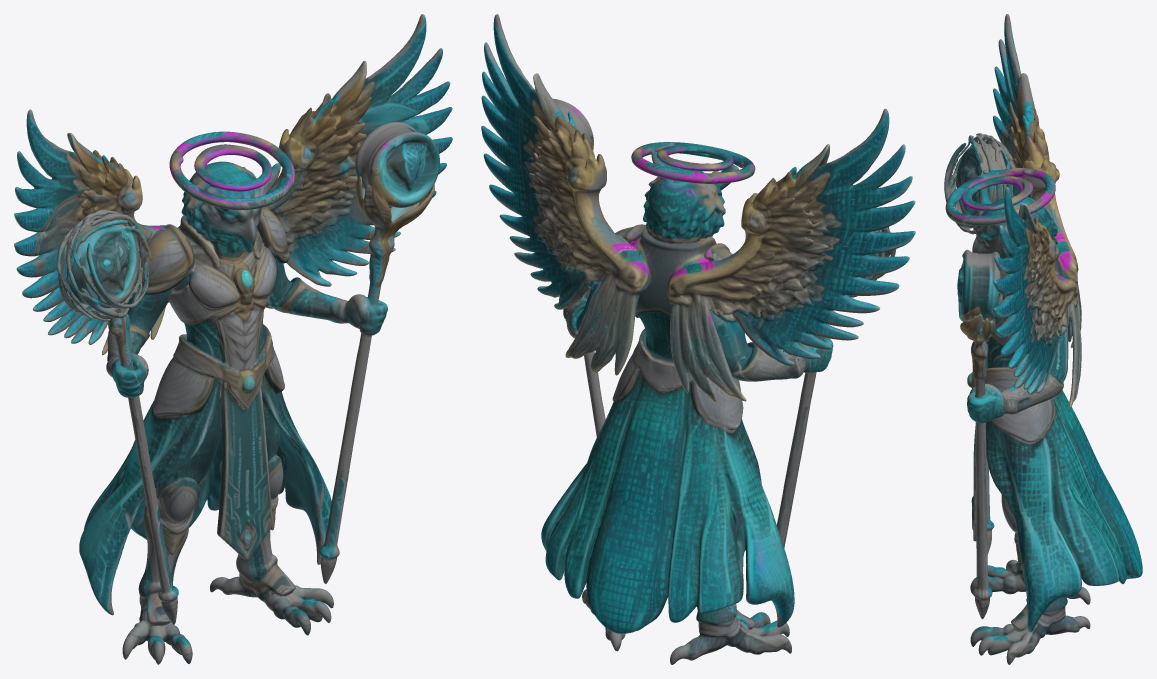
File: Aeon.glb
3 renders of one model, left to right at view 1: azimuth 30°, elevation 25°; view 2: azimuth 150°, elevation 25°; view 3: azimuth 270°, elevation 25°, orthographic. The views are drawn at different scales.
Parts seen in each view (by area): view 1: tripo_node_f4a3d1ec-e453-4632-8101-81e6cc00a29e; view 2: tripo_node_f4a3d1ec-e453-4632-8101-81e6cc00a29e; view 3: tripo_node_f4a3d1ec-e453-4632-8101-81e6cc00a29e.
Part boxes in pixels (box(x1,y1,x2,y2)): tripo_node_f4a3d1ec-e453-4632-8101-81e6cc00a29e: box(14, 14, 452, 664); tripo_node_f4a3d1ec-e453-4632-8101-81e6cc00a29e: box(481, 14, 915, 664); tripo_node_f4a3d1ec-e453-4632-8101-81e6cc00a29e: box(944, 14, 1142, 664).
Size of the model in its own units: 0.7983 by 1 by 0.3469.
Materials: 1 (1 with a texture image).
